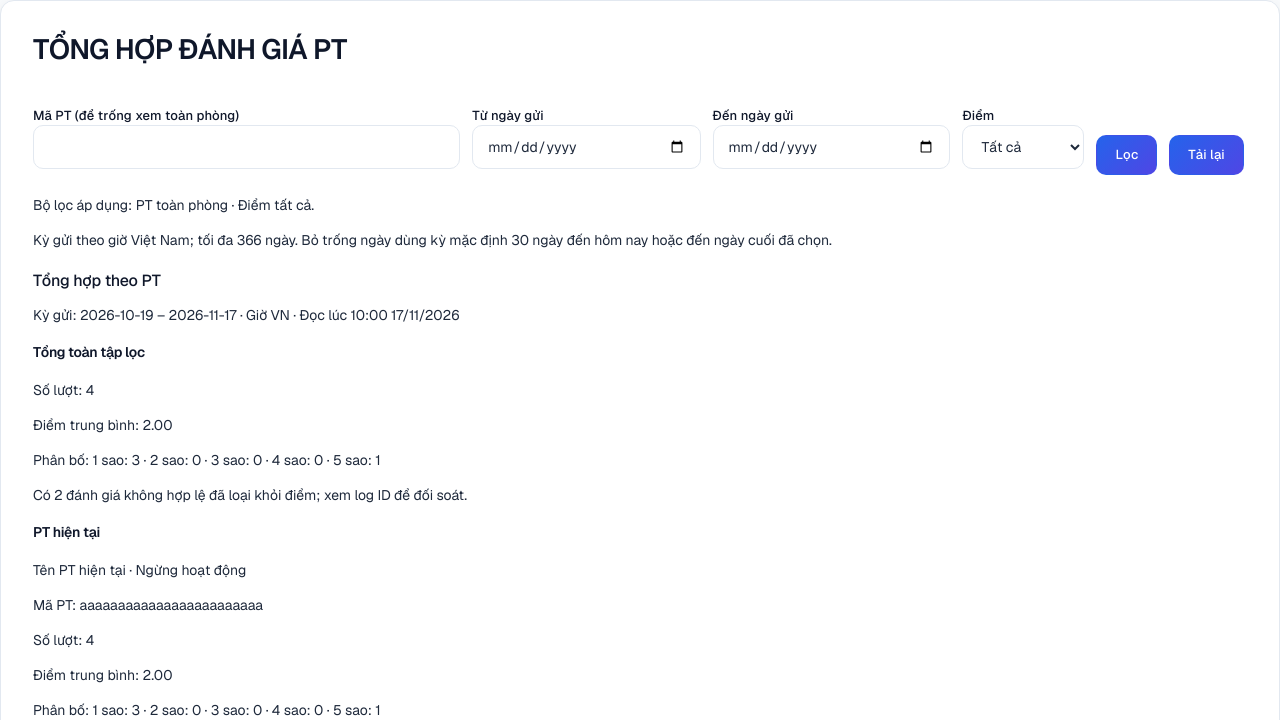
US-33: Admin summary và nhận xét gốc › TC08: lỗi kỳ hiện message cụ thể và xóa kết quả cũ để tránh hiểu sai tập lọc
Expected: the heading "PT hiện tại" is shown, x1=33 y1=523 x2=100 y2=541
Type "2026-12-31" into the date field labelled "Từ ngày gửi" at (586, 147), box x1=472 y1=125 x2=701 y2=169
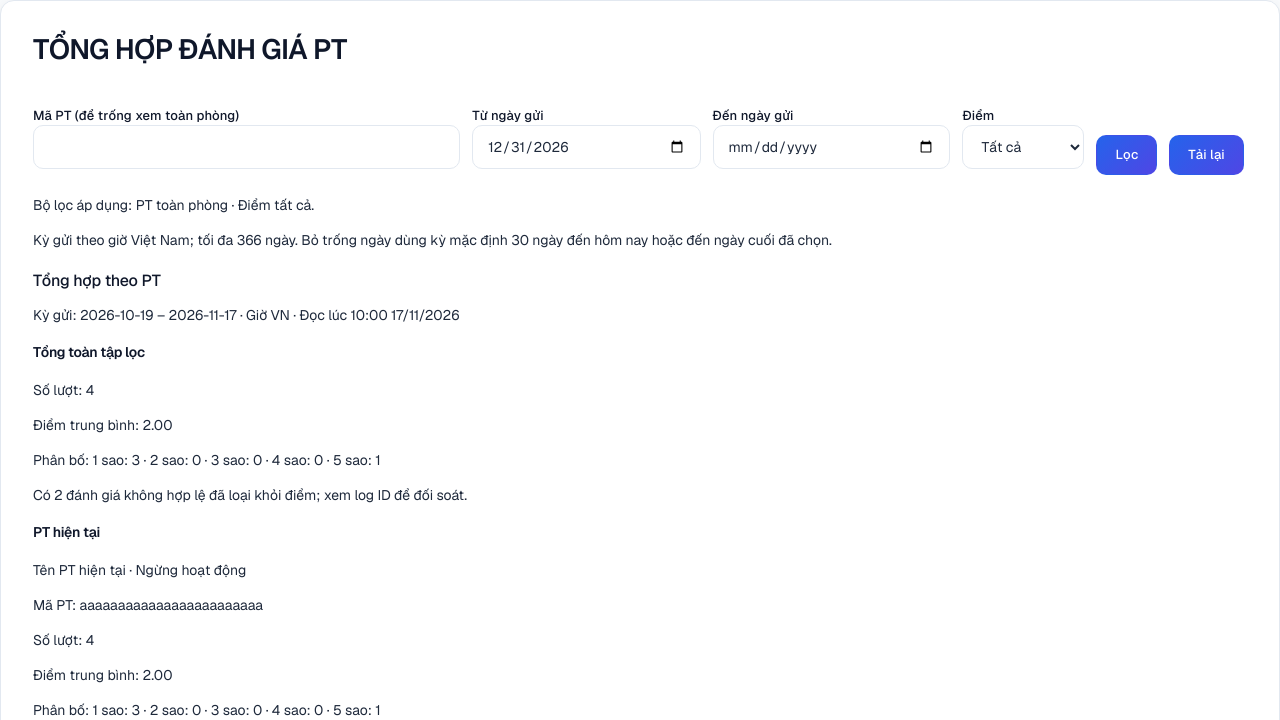
Click the button "Lọc" at (1127, 155), box x1=1096 y1=135 x2=1157 y2=175
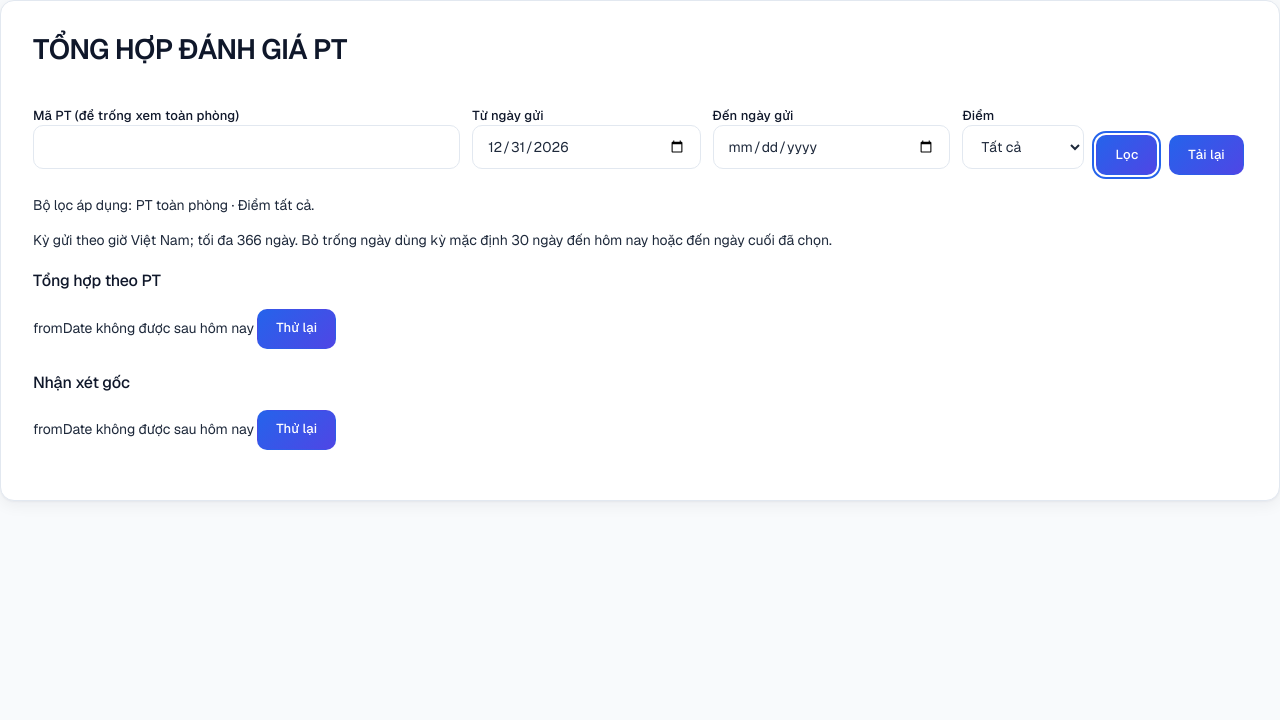
Expected: the number of messages is 2, x1=33 y1=308 x2=336 y2=348; x1=33 y1=410 x2=336 y2=450
Expected: the message "fromDate không được sau hôm nay Thử lại" below "Tổng hợp theo PT" is shown, x1=33 y1=318 x2=254 y2=336
Expected: the text "Điểm trung bình: 2.00" is gone
